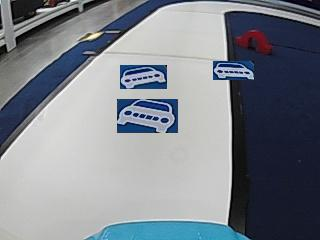bridge: (235, 29, 271, 53)
